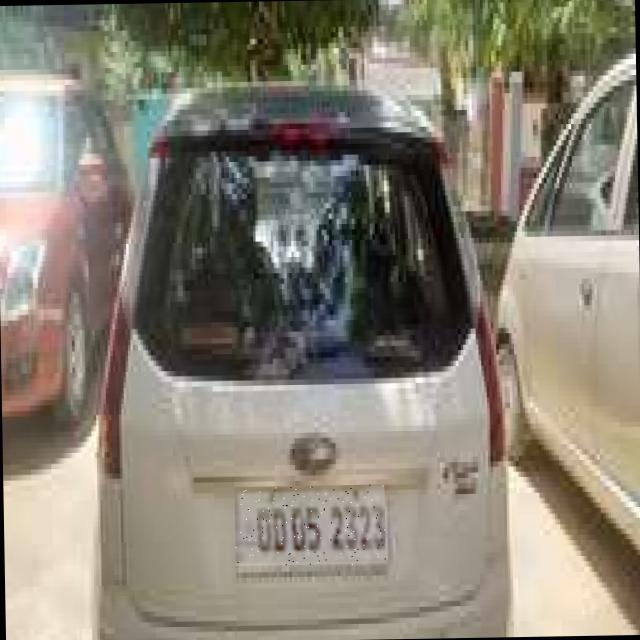Plate: (235, 485, 386, 568)
